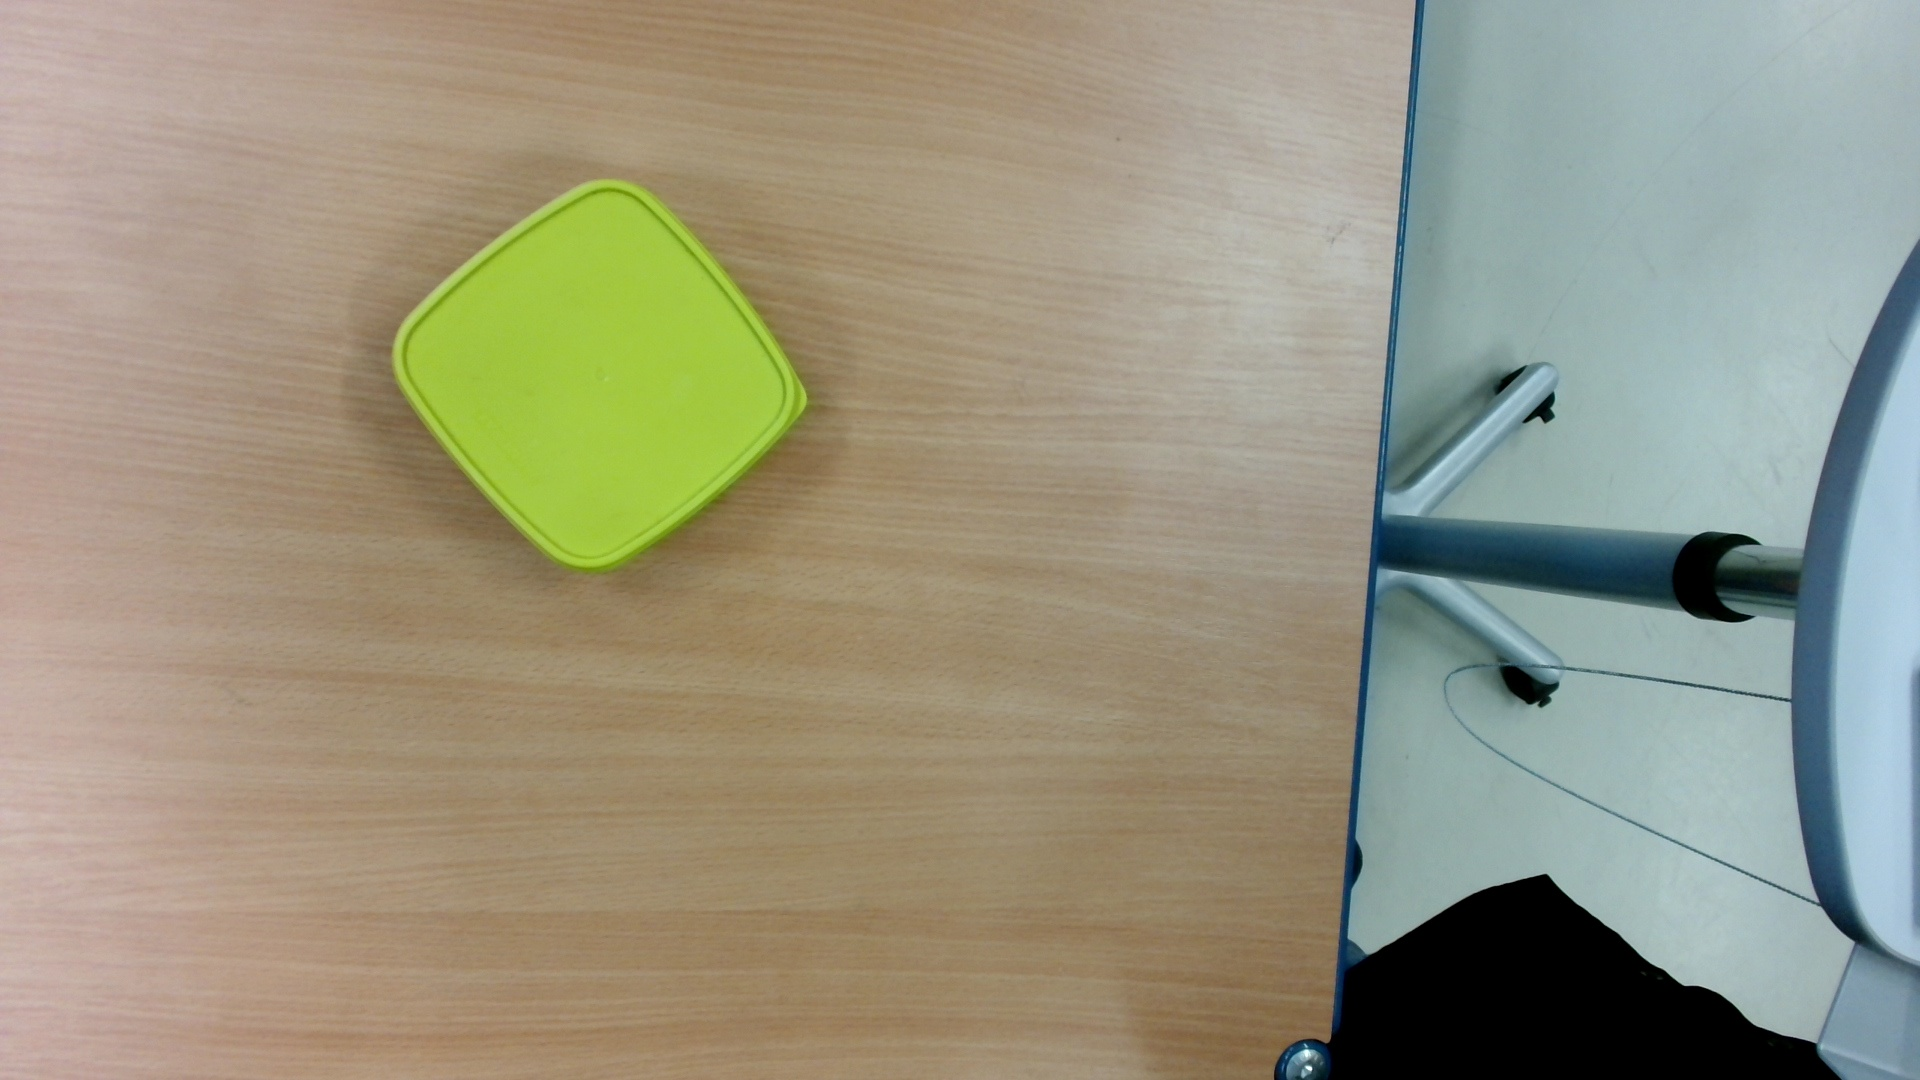Box: (386, 173, 823, 582)
